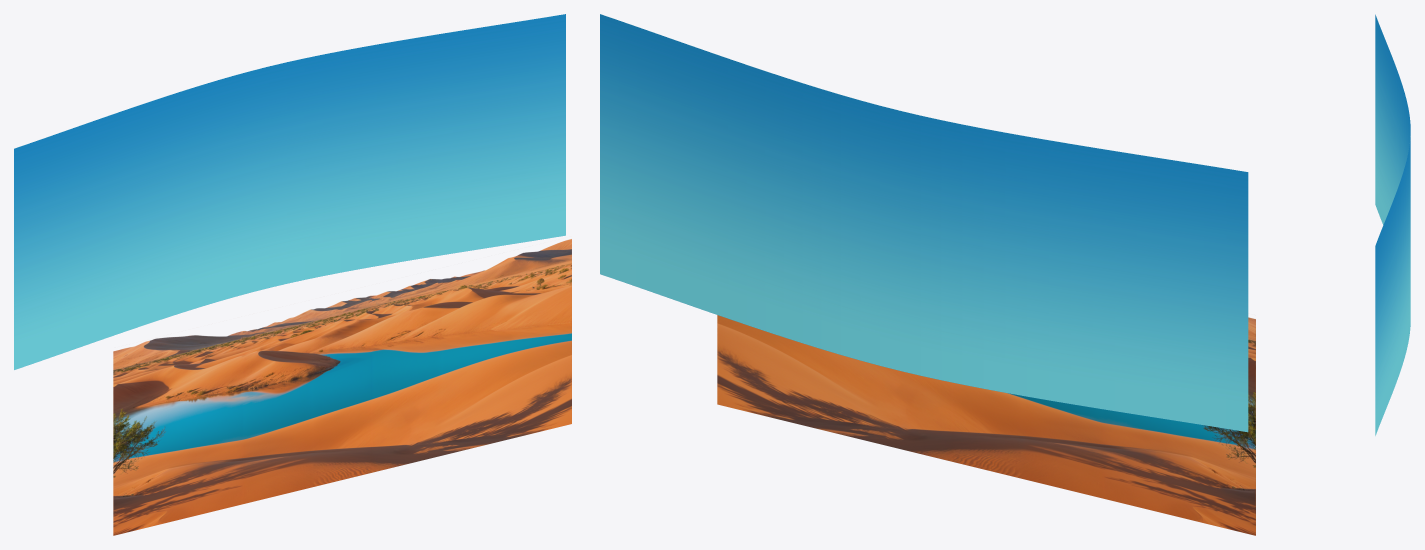
The model's file is env and sky1.glb.
3 renders of one model, left to right at view 1: azimuth 30°, elevation 25°; view 2: azimuth 150°, elevation 25°; view 3: azimuth 270°, elevation 25°, orthographic. The views are drawn at different scales.
Parts seen in each view (by area): view 1: SKY, Plane; view 2: SKY, Plane; view 3: SKY.
Part boxes in pixels (left/top/right/bottom): SKY: left=14, top=14, right=565, bottom=369; Plane: left=113, top=239, right=571, bottom=535; SKY: left=600, top=14, right=1248, bottom=432; Plane: left=717, top=315, right=1255, bottom=535; SKY: left=1375, top=14, right=1410, bottom=435.
Bounding box in the file's own units: 55.12 × 34.34 × 12.7.
2 materials, 2 textured.
